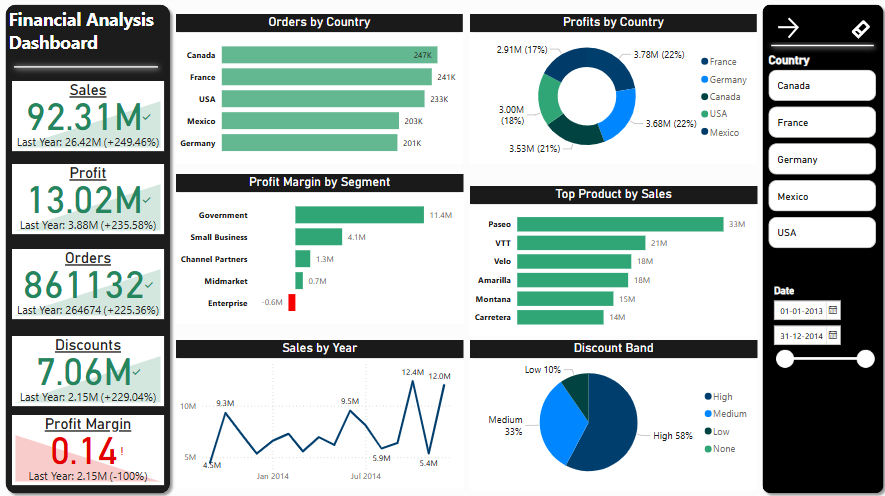

The dashboard page shown, as its layout file describes it:
{"tool":"powerbi","page":{"name":"Page 1","canvas":[1280,720],"ordinal":0},"visuals":[{"type":"shape","box":[0,0,253.4,720],"z":0},{"type":"kpi","title":"Orders","fields":{"TrendLine":["Date.Year"],"Goal":["Time KPIs.Orders LY"],"Indicator":["Measures KPIs.Units Sold"]},"box":[17.3,360,218.9,100.8],"z":1000},{"type":"shape","box":[11.5,77.8,224.6,40.3],"z":2000},{"type":"kpi","title":"Sales ","fields":{"Indicator":["Measures KPIs.Total Sales"],"TrendLine":["Date.Year"],"Goal":["Time KPIs.Sales LY"]},"box":[17.3,118.1,218.9,100.8],"z":3000},{"type":"kpi","title":"Profit","fields":{"TrendLine":["Date.Year"],"Goal":["Time KPIs.Profits LY"],"Indicator":["Measures KPIs.Total Profit"]},"box":[17.3,237.6,218.9,100.8],"z":4000},{"type":"kpi","title":"Discounts","fields":{"TrendLine":["Date.Year"],"Indicator":["Measures KPIs.Total Discounts"],"Goal":["Time KPIs.Discount LY"]},"box":[17.3,485.3,218.9,100.8],"z":5000},{"type":"barChart","title":"Orders by Country","fields":{"Category":["Country.Country"],"Y":["Measures KPIs.Units Sold"]},"box":[253.4,21.6,413.3,216],"z":6000},{"type":"donutChart","title":"Profits by Country","fields":{"Category":["Country.Country"],"Y":["Measures KPIs.Total Profit"]},"box":[676.8,21.6,413.3,216],"z":7000},{"type":"pieChart","title":"Discount Band","fields":{"Y":["Measures KPIs.Total Discounts"],"Category":["Sales.Discount Band"]},"box":[677.2,491.2,413.8,215.8],"z":8000},{"type":"kpi","title":"Profit Margin","fields":{"TrendLine":["Date.Year"],"Goal":["Time KPIs.Discount LY"],"Indicator":["Profitability KPIs.Profit Margin %"]},"box":[17.3,599,218.9,100.8],"z":9000},{"type":"barChart","title":"Profit Margin by Segment","fields":{"Y":["Measures KPIs.Total Profit"],"Category":["Segment.Segment"]},"box":[253,251.5,413.8,215.8],"z":10000},{"type":"lineChart","title":"Sales by Year","fields":{"Category":["Sales.Date"],"Y":["Measures KPIs.Total Sales"]},"box":[253,491.2,413.8,214.3],"z":11000},{"type":"barChart","title":"Top Product by Sales","fields":{"Y":["Measures KPIs.Total Sales"],"Category":["Product.Product"]},"box":[677.2,269.4,413.8,215.8],"z":12000},{"type":"actionButton","title":"Click to View Filters","box":[1114.6,23,152.6,54.7],"z":14000}]}

Visuals, with their boxes in screenshot pixels (x1, y1, x2, y2), scaled from the page's 1280x720 canvas onto the 885x496 screenshot:
shape: (left=0, top=0, right=175, bottom=495)
"Orders" kpi: (left=12, top=248, right=163, bottom=317)
shape: (left=8, top=54, right=163, bottom=81)
"Sales " kpi: (left=12, top=81, right=163, bottom=151)
"Profit" kpi: (left=12, top=164, right=163, bottom=233)
"Discounts" kpi: (left=12, top=334, right=163, bottom=404)
"Orders by Country" barChart: (left=175, top=15, right=461, bottom=164)
"Profits by Country" donutChart: (left=468, top=15, right=754, bottom=164)
"Discount Band" pieChart: (left=468, top=338, right=754, bottom=487)
"Profit Margin" kpi: (left=12, top=413, right=163, bottom=482)
"Profit Margin by Segment" barChart: (left=175, top=173, right=461, bottom=322)
"Sales by Year" lineChart: (left=175, top=338, right=461, bottom=486)
"Top Product by Sales" barChart: (left=468, top=186, right=754, bottom=334)
"Click to View Filters" actionButton: (left=771, top=16, right=876, bottom=54)
